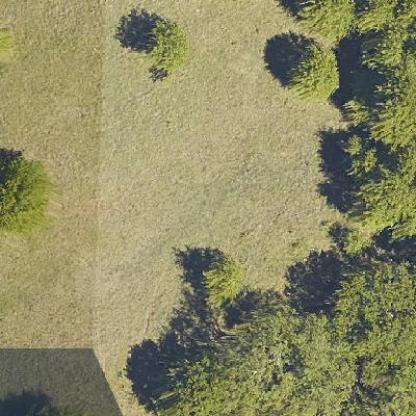tree-top: (164, 309, 355, 415), (338, 265, 415, 371), (277, 38, 345, 107), (0, 151, 54, 236), (134, 18, 199, 85), (358, 166, 415, 229), (367, 80, 415, 147), (288, 0, 357, 44), (200, 255, 248, 309), (365, 26, 408, 72), (340, 133, 381, 177), (357, 0, 392, 32)
